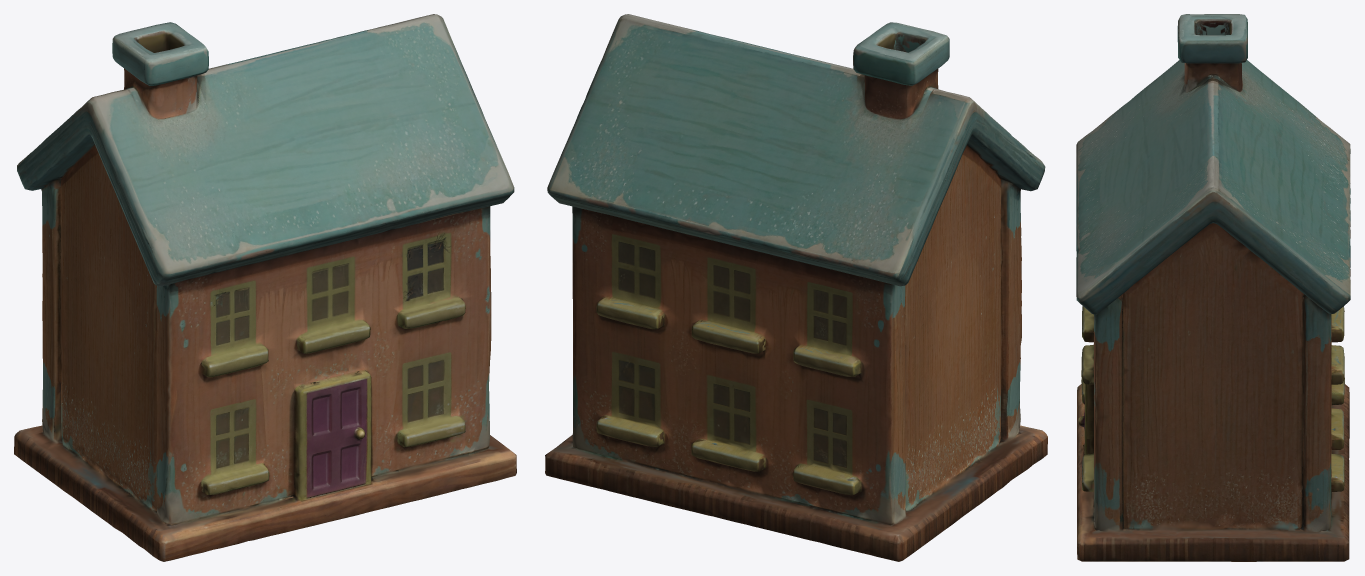
File: Prop_Dollhouse.fbx
The picture shows the model from 3 angles, left to right: view 1: azimuth 30°, elevation 25°; view 2: azimuth 150°, elevation 25°; view 3: azimuth 270°, elevation 25°; orthographic projection. The views are drawn at different scales.
Parts seen in each view (by area): view 1: texture_mapping; view 2: texture_mapping; view 3: texture_mapping.
Boxes of the visible parts, x1,y1,x2,y2 form: texture_mapping: [14, 14, 516, 561]; texture_mapping: [545, 14, 1047, 561]; texture_mapping: [1076, 14, 1350, 561].
Bounding box in the file's own units: 0.8307 × 0.6056 × 1.
Materials: 1 (1 with a texture image).
